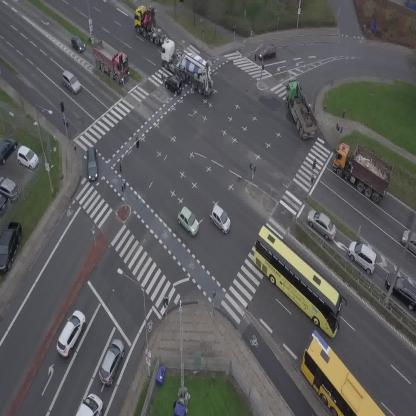bus: (237, 224, 359, 339), (283, 329, 386, 416)
car: (51, 308, 90, 358), (95, 336, 129, 387), (342, 237, 385, 276), (302, 205, 342, 244), (172, 205, 205, 237), (205, 204, 236, 235), (57, 68, 84, 96), (161, 74, 186, 97), (66, 33, 88, 55), (86, 146, 98, 180), (402, 230, 416, 253), (257, 44, 277, 59)
lorry: (323, 134, 401, 204), (149, 36, 224, 98), (279, 76, 322, 142), (84, 36, 138, 87), (76, 393, 103, 416)
